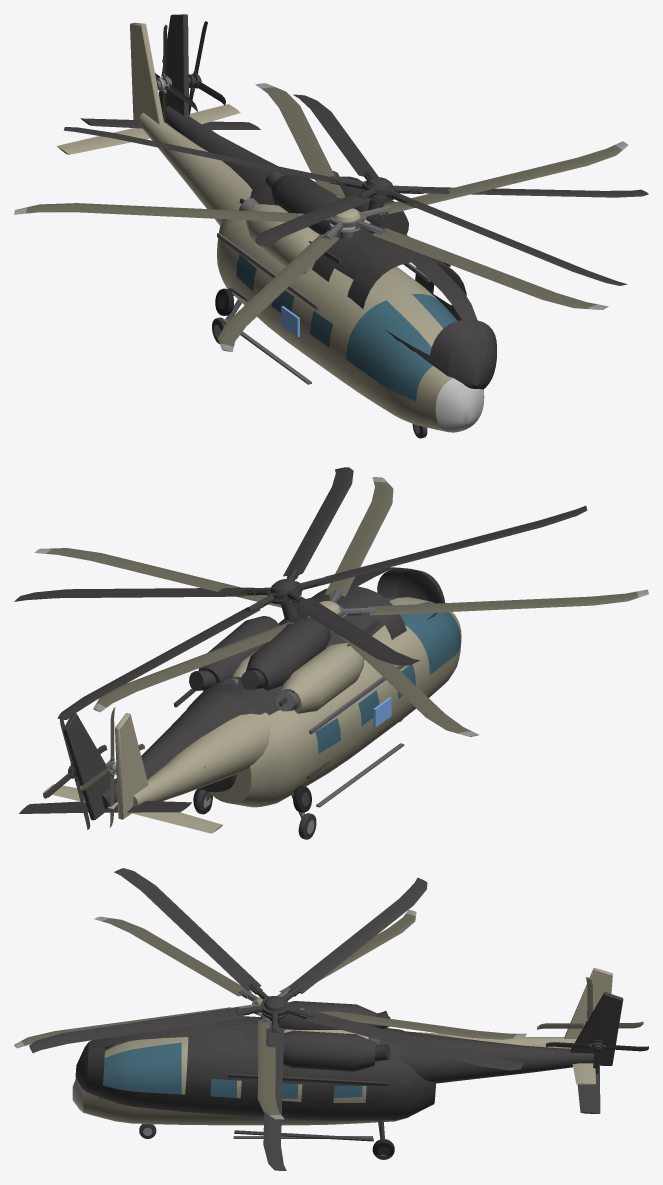
File: helicopter__aw149_nmh.glb
3 renders of one model, top to bottom at view 1: azimuth 30°, elevation 25°; view 2: azimuth 150°, elevation 25°; view 3: azimuth 270°, elevation 25°, orthographic. The views are drawn at different scales.
Parts seen in each view (by area): view 1: Fuselage_Mesh, Wreck, Rotor_Main_Mesh, Engines_Mesh, Rotor_Tail_Mesh; view 2: Wreck, Fuselage_Mesh, Rotor_Main_Mesh, Engines_Mesh, Rotor_Tail_Mesh, Landing_Gear_Mesh; view 3: Wreck, Fuselage_Mesh, Rotor_Main_Mesh, Rotor_Tail_Mesh.
Boxes of the visible parts, left/top/right/bottom form: Fuselage_Mesh: left=57, top=22, right=484, bottom=432; Wreck: left=63, top=14, right=648, bottom=389; Rotor_Main_Mesh: left=14, top=83, right=628, bottom=351; Engines_Mesh: left=239, top=198, right=370, bottom=274; Rotor_Tail_Mesh: left=155, top=24, right=197, bottom=123; Wreck: left=14, top=467, right=587, bottom=829; Fuselage_Mesh: left=43, top=597, right=461, bottom=833; Rotor_Main_Mesh: left=34, top=477, right=648, bottom=736; Engines_Mesh: left=222, top=643, right=364, bottom=713; Rotor_Tail_Mesh: left=80, top=707, right=144, bottom=827; Landing_Gear_Mesh: left=195, top=719, right=402, bottom=839; Wreck: left=29, top=868, right=648, bottom=1170; Fuselage_Mesh: left=72, top=967, right=612, bottom=1138; Rotor_Main_Mesh: left=14, top=910, right=526, bottom=1119; Rotor_Tail_Mesh: left=537, top=977, right=643, bottom=1029.
Size of what is drawn, in the model's own units: 14.01 by 6.02 by 17.28.
